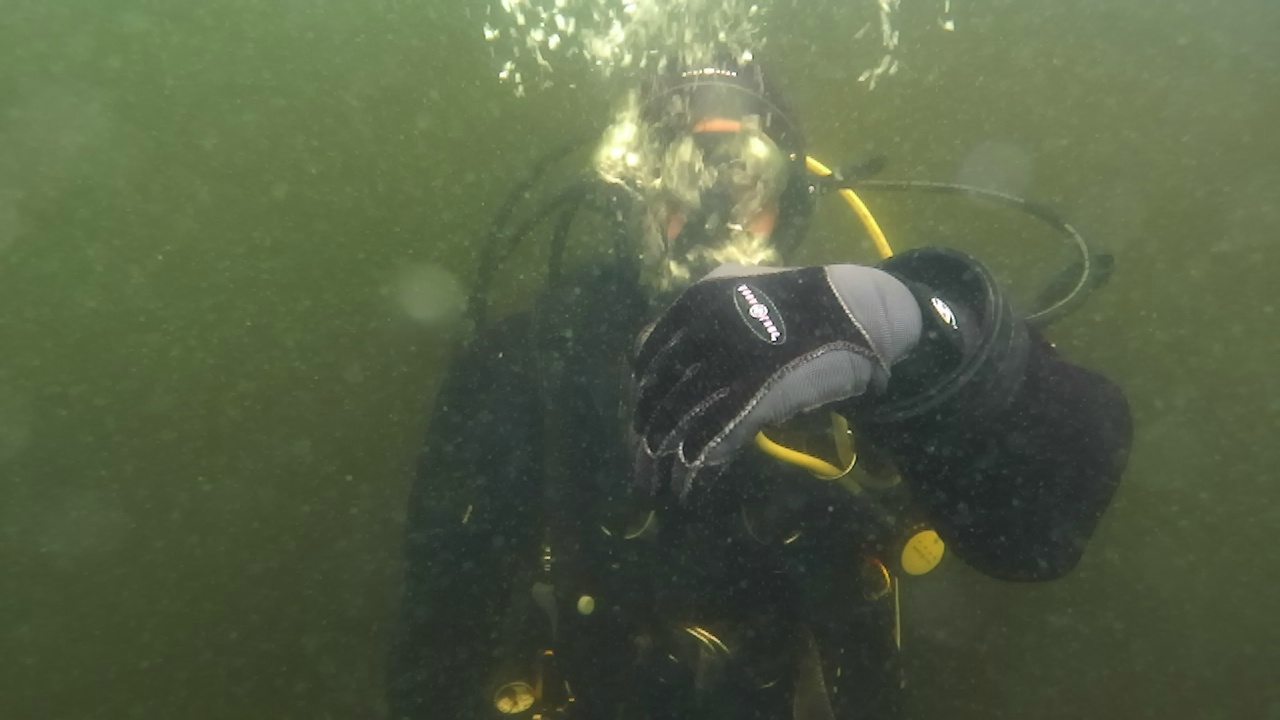Diver: (396, 34, 1096, 718)
Hand: (596, 254, 874, 516)
Head: (596, 44, 804, 248)
